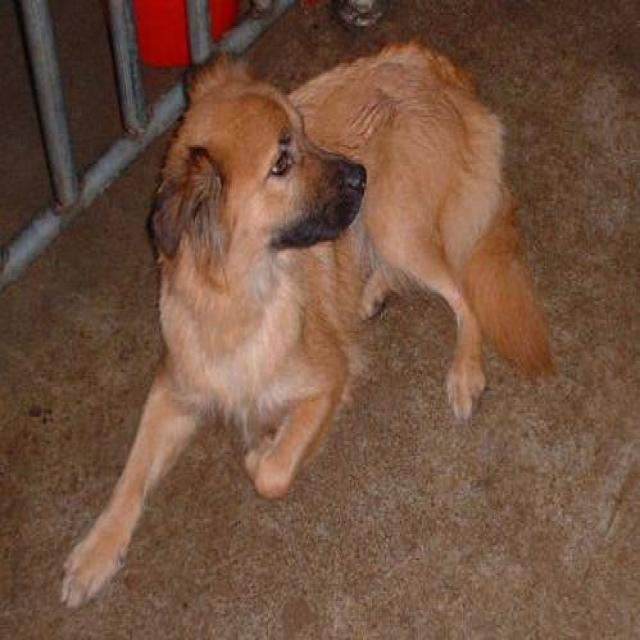dog: (58, 35, 558, 610)
